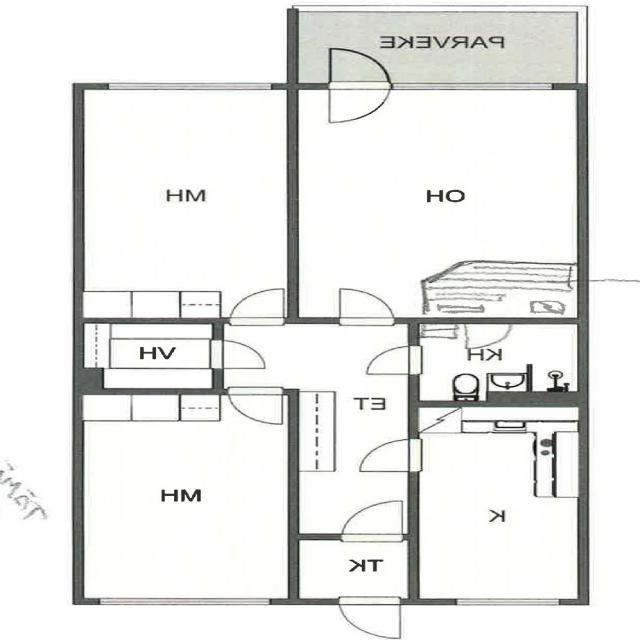door: (329, 47, 390, 89), (329, 83, 390, 125), (340, 598, 400, 640), (342, 498, 402, 539), (228, 389, 283, 427), (340, 286, 394, 324), (356, 439, 418, 472), (232, 286, 283, 324), (363, 346, 418, 374), (214, 340, 269, 368), (466, 318, 510, 350)
